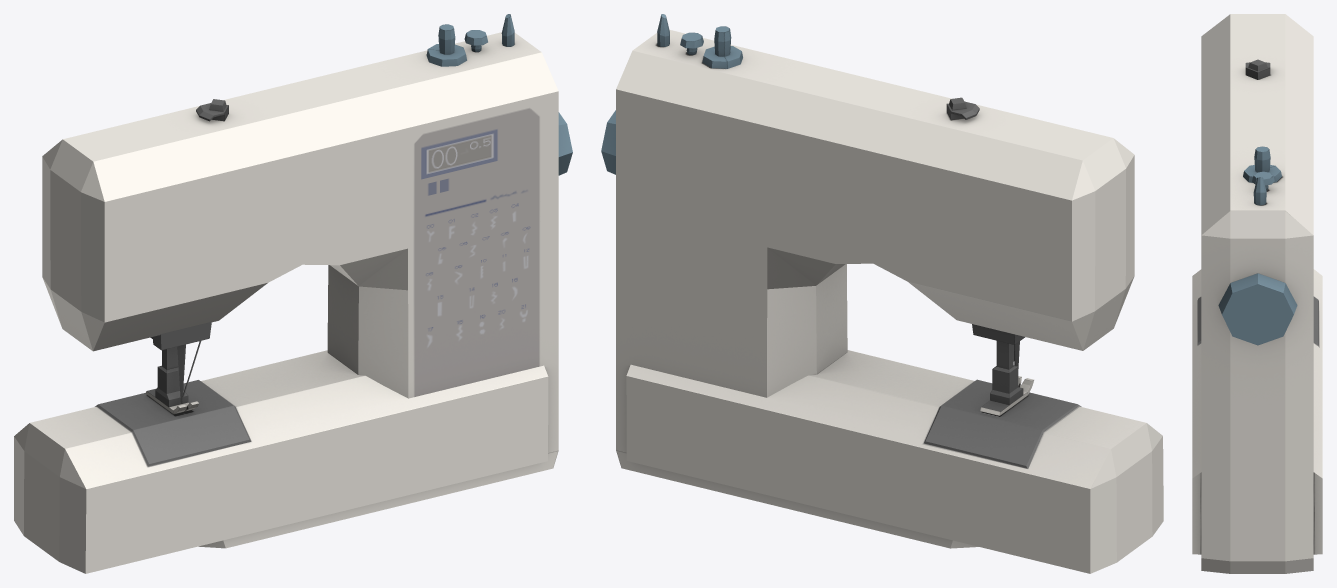
Rendered from SewingMachine.obj.
3 views of the same model, side by side, from view 1: azimuth 30°, elevation 25°; view 2: azimuth 150°, elevation 25°; view 3: azimuth 270°, elevation 25° (orthographic). The views are drawn at different scales.
Visible parts, largest first — view 1: SewingMachine_mesh; view 2: SewingMachine_mesh; view 3: SewingMachine_mesh.
Boxes of the visible parts, x1,y1,x2,y2 form: SewingMachine_mesh: (14, 14, 572, 573); SewingMachine_mesh: (601, 14, 1163, 573); SewingMachine_mesh: (1192, 14, 1322, 573).
Bounding box in the file's own units: 17.97 × 14.57 × 4.4.
1 material, 1 textured.
